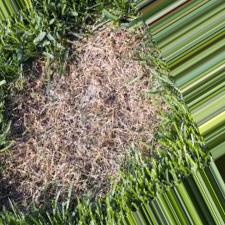patch: (40, 95, 138, 136), (68, 51, 152, 83), (30, 148, 108, 180)
